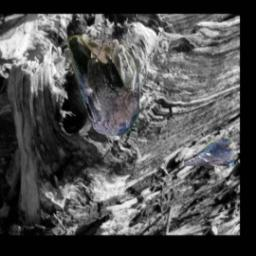Crow: (67, 35, 139, 136)
Swallow: (185, 138, 235, 167)
